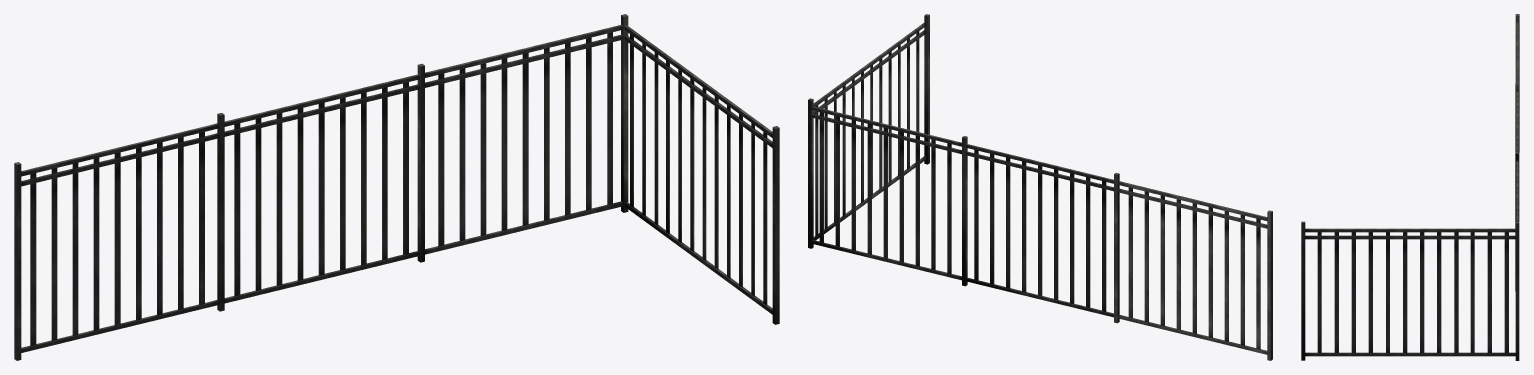
File: ograda_03.fbx
3 views of the same model, side by side, from view 1: azimuth 30°, elevation 25°; view 2: azimuth 150°, elevation 25°; view 3: azimuth 270°, elevation 25° (orthographic). The views are drawn at different scales.
Parts seen in each view (by area): view 1: ograda_03; view 2: ograda_03; view 3: ograda_03.
Part boxes in pixels (x1=…): ograda_03: x1=14, y1=14, x2=779, y2=360; ograda_03: x1=808, y1=14, x2=1272, y2=360; ograda_03: x1=1301, y1=14, x2=1519, y2=360.
Bounding box in the file's own units: 9.05 × 2.77 × 3.98.
